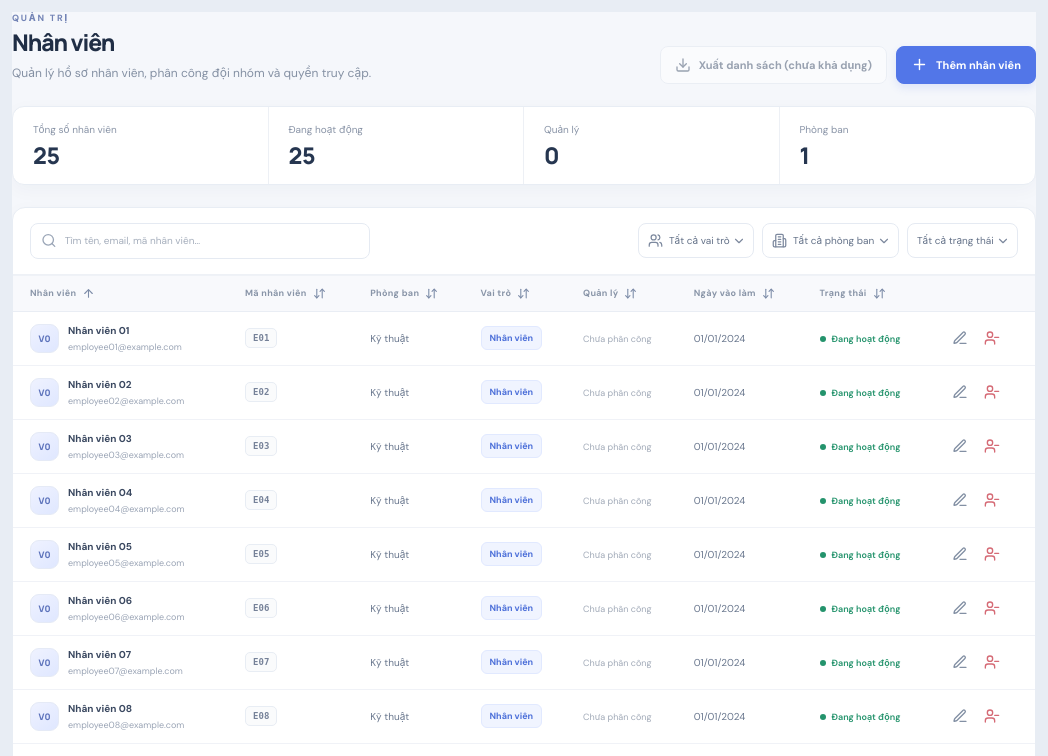
Test: EmployeesPage filtering, sorting and pagination › sorts employees by name in ascending and descending order
This screenshot has width=1048, height=756.
Expected: the text "Nhân viên 01" is shown, [68,324,130,337]
Step 1. Click the button with aria-label "Sắp xếp theo họ tên" → (63, 293), box [30,287,95,300]
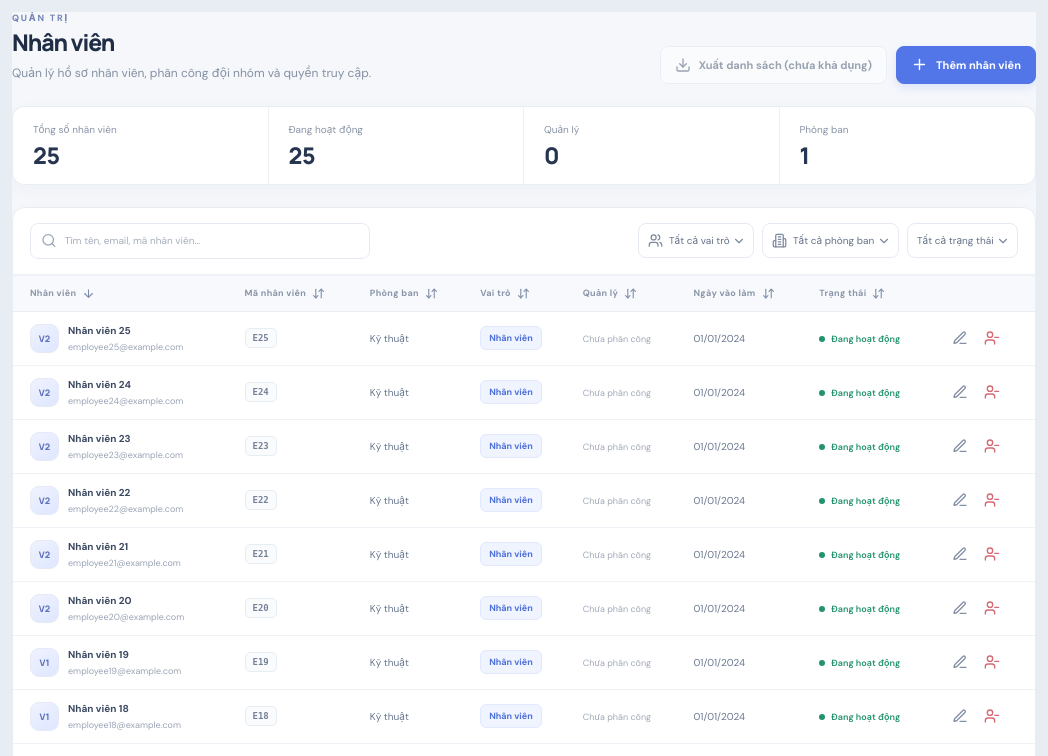
Now the text "Nhân viên 25" is shown, box [68,324,131,337]
Step 2. Click the button with aria-label "Sắp xếp theo họ tên" → (63, 293), box [30,287,95,300]
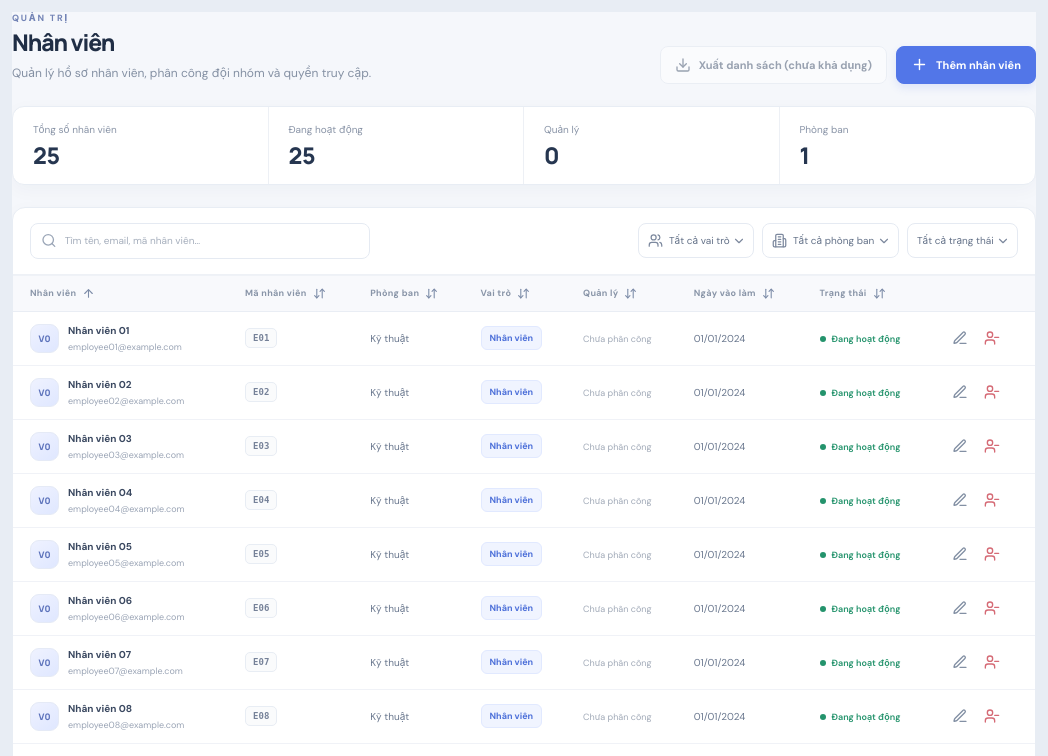
Now the text "Nhân viên 01" is shown, box [68,324,130,337]
